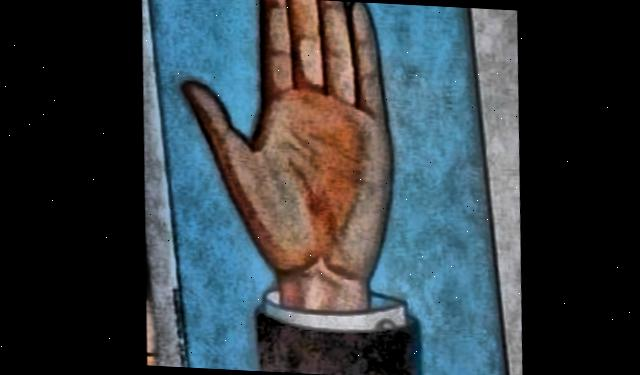La Mano: (150, 0, 500, 375)
